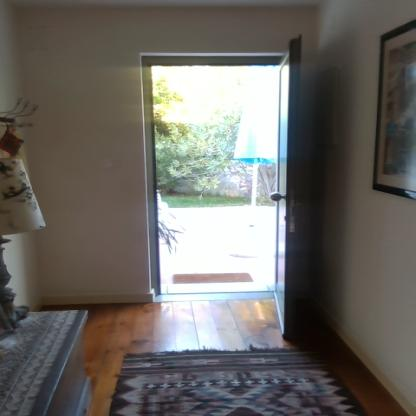open: (124, 37, 318, 336)
